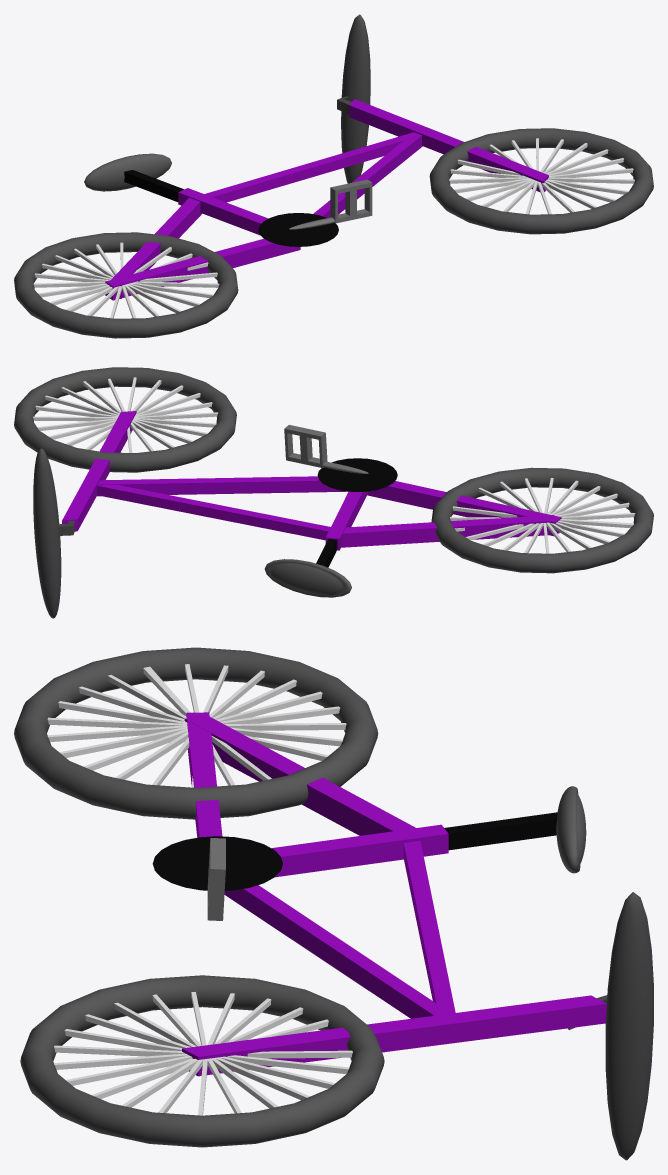
File: Bike_Purple.fbx
3 views of the same model, one above another, from view 1: azimuth 30°, elevation 25°; view 2: azimuth 150°, elevation 25°; view 3: azimuth 270°, elevation 25° (orthographic). The views are drawn at different scales.
Visible parts, largest first — view 1: pasted__pasted__pTorus1, pasted__pTorus1, pasted__pCube2 (×2), pSphere1, pCube3, pCube1, pDisc1, pSphere2, pasted__pCube1, pasted__pCube3, pCube2, pCube4; view 2: pasted__pTorus1, pasted__pasted__pTorus1, pSphere1, pCube3, pasted__pCube1, pasted__pCube3, pasted__pCube2 (×2), pSphere2, pCube1, pDisc1, pCube4, pCube2; view 3: pasted__pasted__pTorus1, pasted__pTorus1, pasted__pCube2 (×2), pSphere1, pasted__pasted__pasted__pasted__pasted__pasted__pasted__pCub (×10), pasted__pasted__pasted__pasted__pasted__pasted__pasted__past (×10), pasted__pCube3, pasted__pCube1, pCube2, pDisc1, pCube3, pCube1 (+2 smaller).
Boxes of the visible parts, x1=… form: pasted__pasted__pTorus1: x1=429, y1=128, x2=653, y2=234; pasted__pTorus1: x1=14, y1=232, x2=238, y2=338; pasted__pCube2 (×2): x1=124, y1=99, x2=548, y2=201; pSphere1: x1=341, y1=14, x2=370, y2=183; pCube3: x1=204, y1=132, x2=413, y2=202; pCube1: x1=105, y1=239, x2=300, y2=300; pDisc1: x1=258, y1=213, x2=338, y2=246; pSphere2: x1=84, y1=153, x2=171, y2=191; pasted__pCube1: x1=108, y1=197, x2=202, y2=298; pasted__pCube3: x1=295, y1=132, x2=422, y2=248; pCube2: x1=178, y1=188, x2=268, y2=235; pCube4: x1=330, y1=179, x2=372, y2=223; pasted__pTorus1: x1=431, y1=467, x2=653, y2=573; pasted__pasted__pTorus1: x1=14, y1=367, x2=236, y2=472; pSphere1: x1=33, y1=448, x2=61, y2=618; pCube3: x1=97, y1=485, x2=330, y2=540; pasted__pCube1: x1=341, y1=515, x2=555, y2=547; pasted__pCube3: x1=97, y1=476, x2=346, y2=496; pasted__pCube2 (×2): x1=62, y1=411, x2=337, y2=567; pSphere2: x1=264, y1=559, x2=351, y2=597; pCube1: x1=367, y1=481, x2=561, y2=536; pDisc1: x1=317, y1=458, x2=397, y2=492; pCube4: x1=284, y1=425, x2=327, y2=467; pCube2: x1=325, y1=491, x2=368, y2=550; pasted__pasted__pTorus1: x1=20, y1=975, x2=384, y2=1147; pasted__pTorus1: x1=14, y1=647, x2=378, y2=819; pasted__pCube2 (×2): x1=182, y1=812, x2=606, y2=1076; pSphere1: x1=605, y1=892, x2=653, y2=1160; pasted__pasted__pasted__pasted__pasted__pasted__pasted__pCub (×10): x1=47, y1=686, x2=346, y2=770; pasted__pasted__pasted__pasted__pasted__pasted__pasted__past (×10): x1=54, y1=1014, x2=352, y2=1100; pasted__pCube3: x1=224, y1=885, x2=450, y2=1018; pasted__pCube1: x1=184, y1=713, x2=415, y2=835; pCube2: x1=271, y1=824, x2=448, y2=877; pDisc1: x1=152, y1=836, x2=282, y2=890; pCube3: x1=403, y1=840, x2=455, y2=1013; pCube1: x1=186, y1=712, x2=222, y2=837.
Size of the model in its own units: 21.39 by 5.7 by 11.98.
